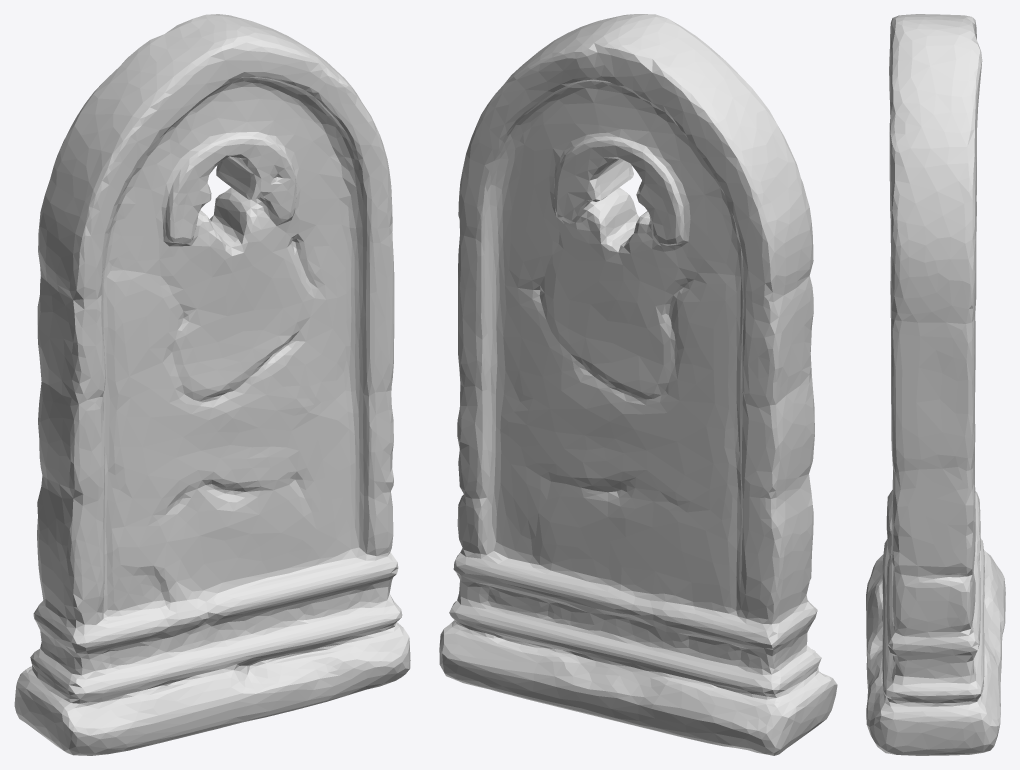
The model's file is tombstone_r2.glb.
The picture shows the model from 3 angles, left to right: view 1: azimuth 30°, elevation 25°; view 2: azimuth 150°, elevation 25°; view 3: azimuth 270°, elevation 25°; orthographic projection. The views are drawn at different scales.
Visible parts, largest first — view 1: Low; view 2: Low; view 3: Low.
Part boxes in pixels (bbox=[...]): Low: bbox=[14, 14, 410, 755]; Low: bbox=[439, 14, 837, 755]; Low: bbox=[866, 14, 1005, 755].
Size of the model in its own units: 1.08 by 1.99 by 0.384.
Materials: 1 (1 with a texture image).
